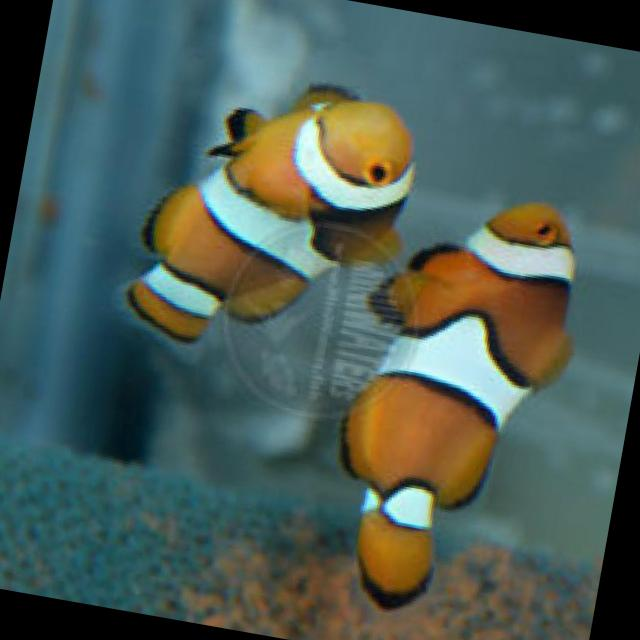ClownFish: (315, 172, 602, 640), (112, 53, 426, 377)
